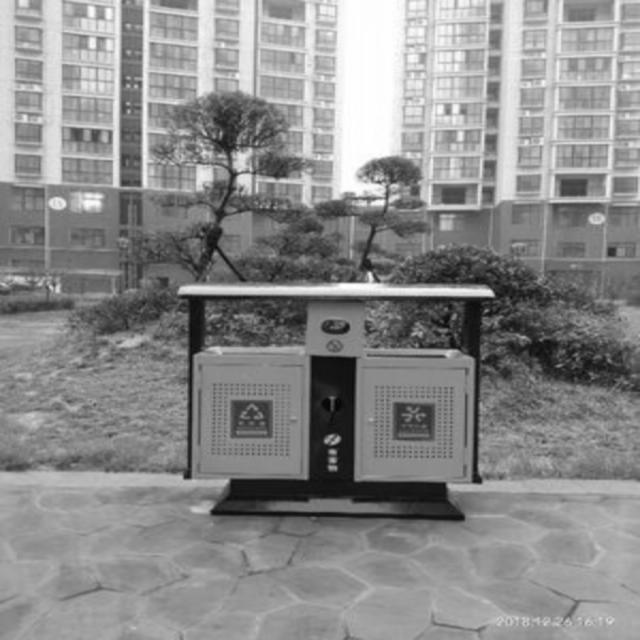ash bin: (173, 277, 497, 520)
